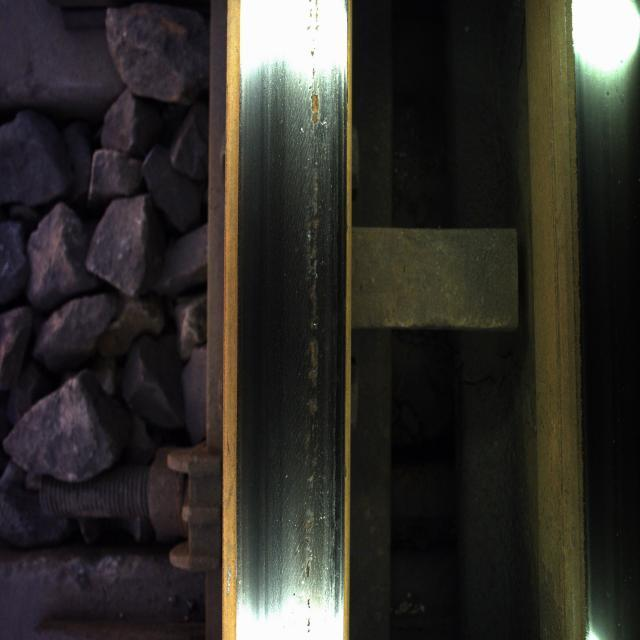crack: (281, 0, 333, 632)
